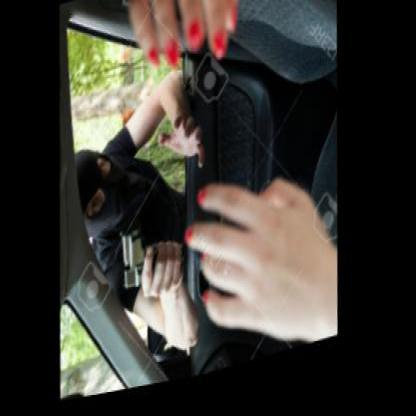pistol: (121, 214, 190, 295)
